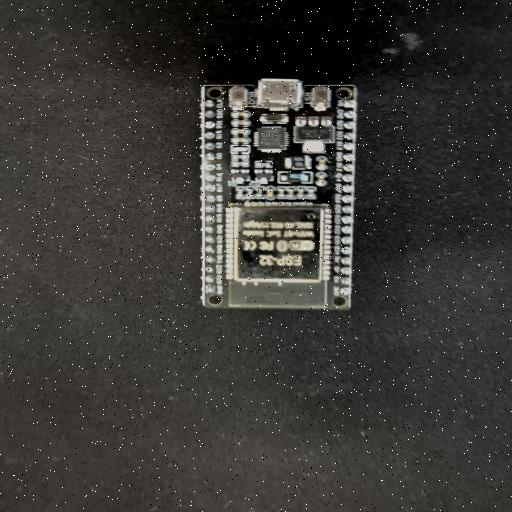esp32-dev: (199, 82, 353, 314)
